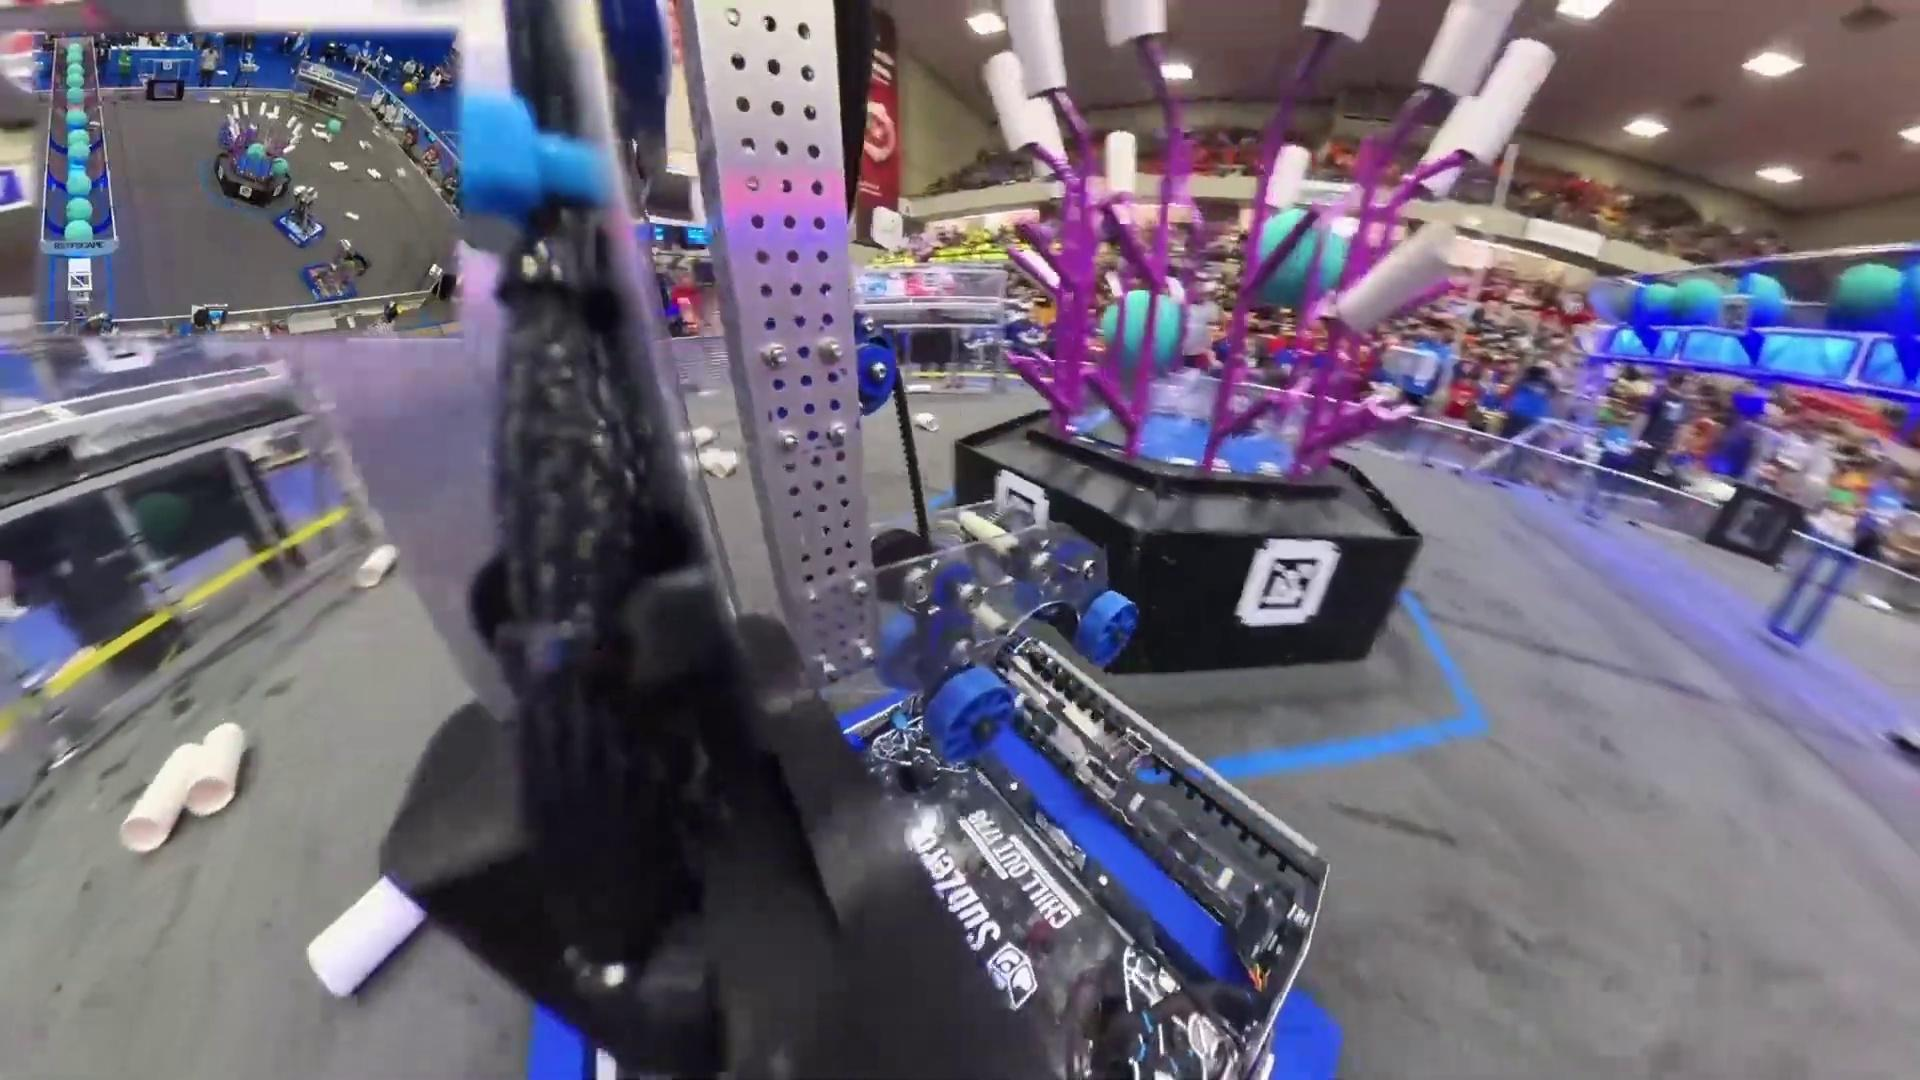robot: (302, 240, 363, 305), (273, 181, 327, 247)
